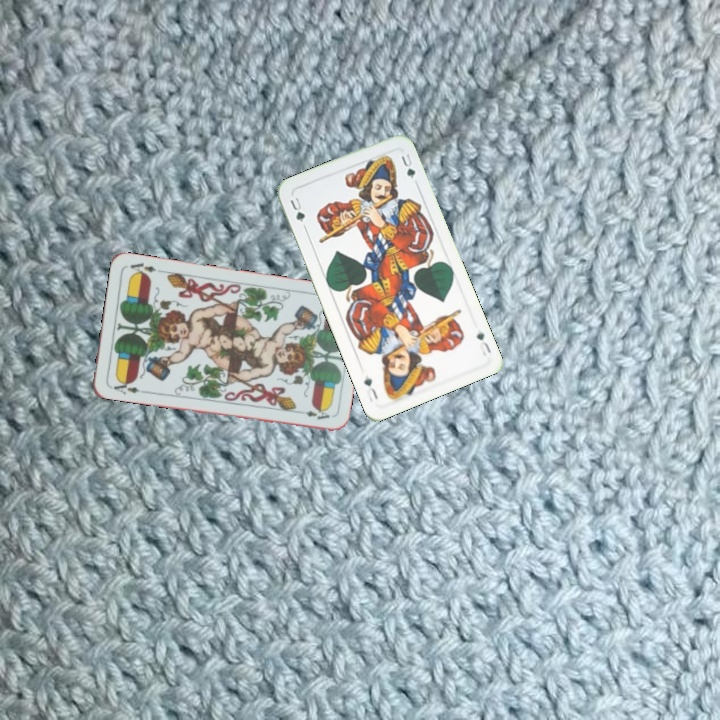EA: (106, 376, 142, 397)
GU: (286, 193, 308, 225), (472, 327, 494, 358)
